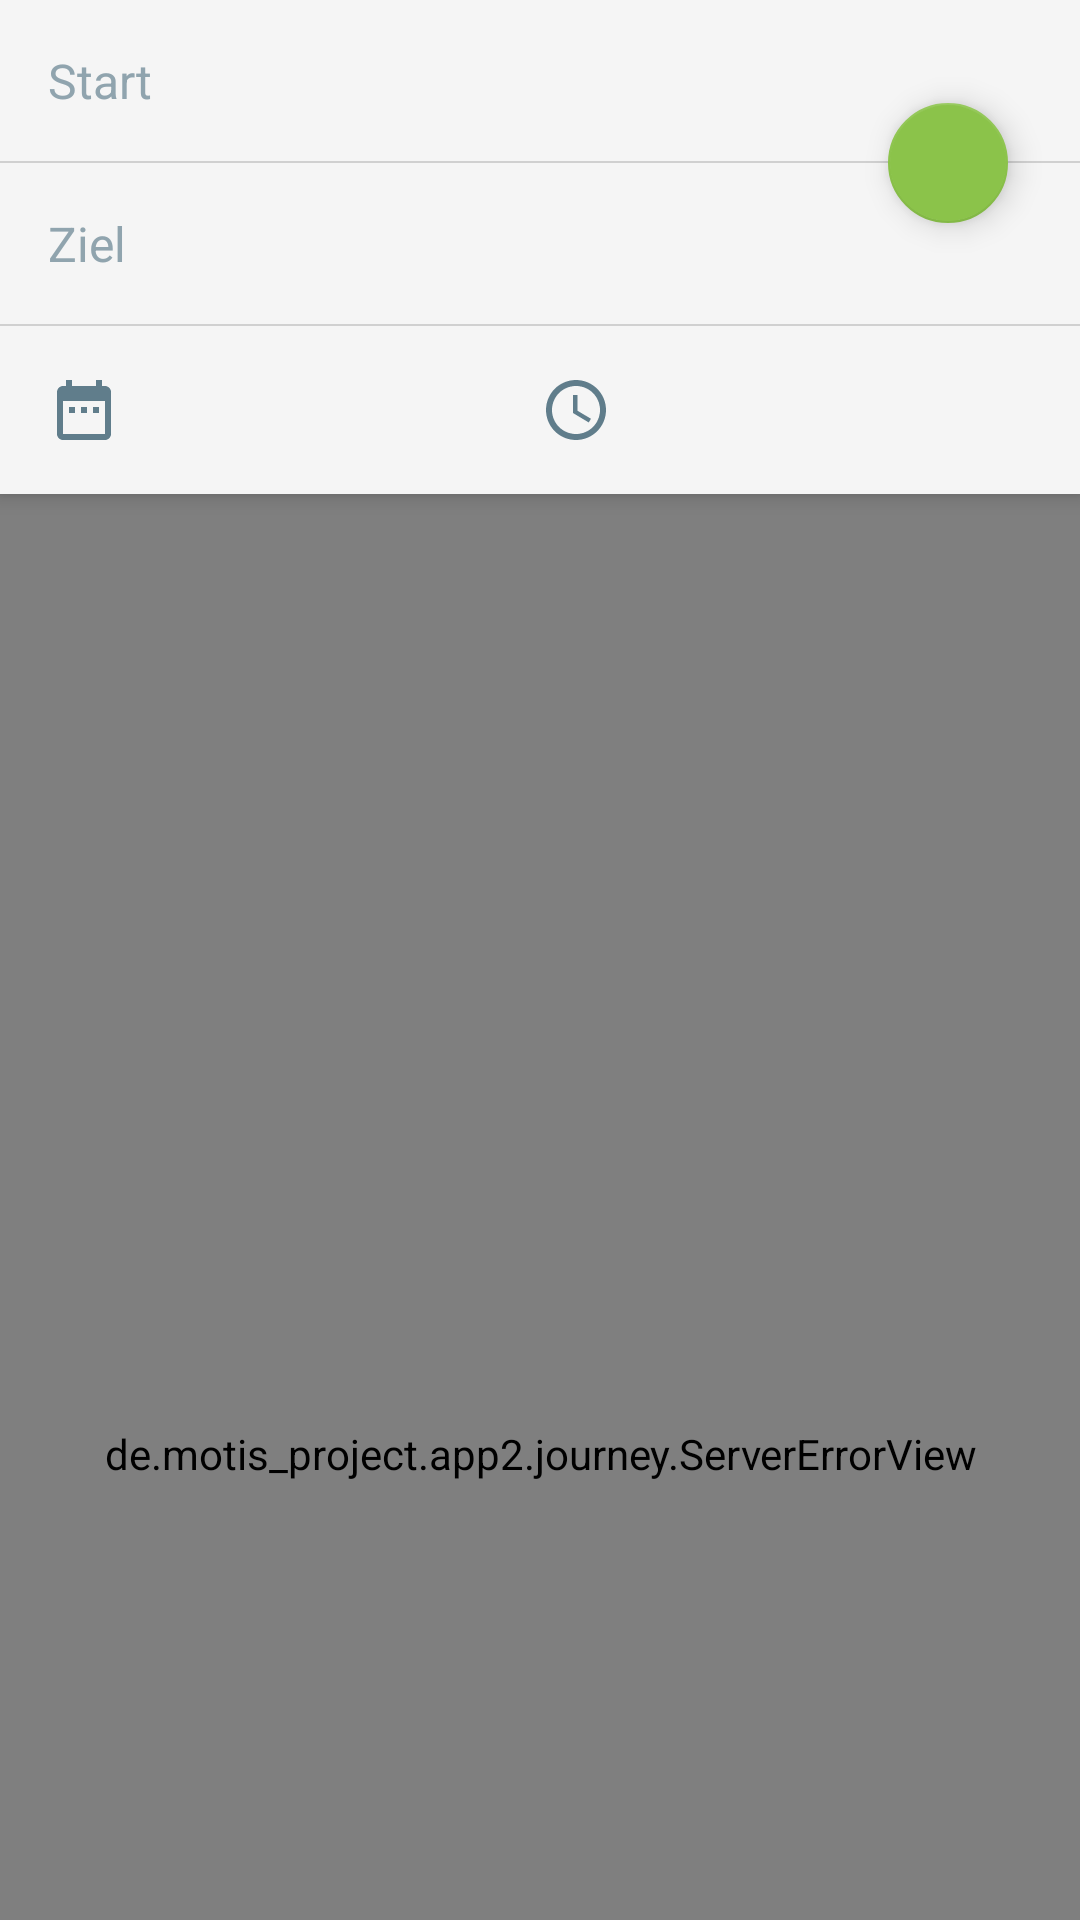

Locate icon controls on the screen. Image size 1080px×1920px, boxes as (x1, y1, x2, y2).
date range: (57, 380, 111, 440)
